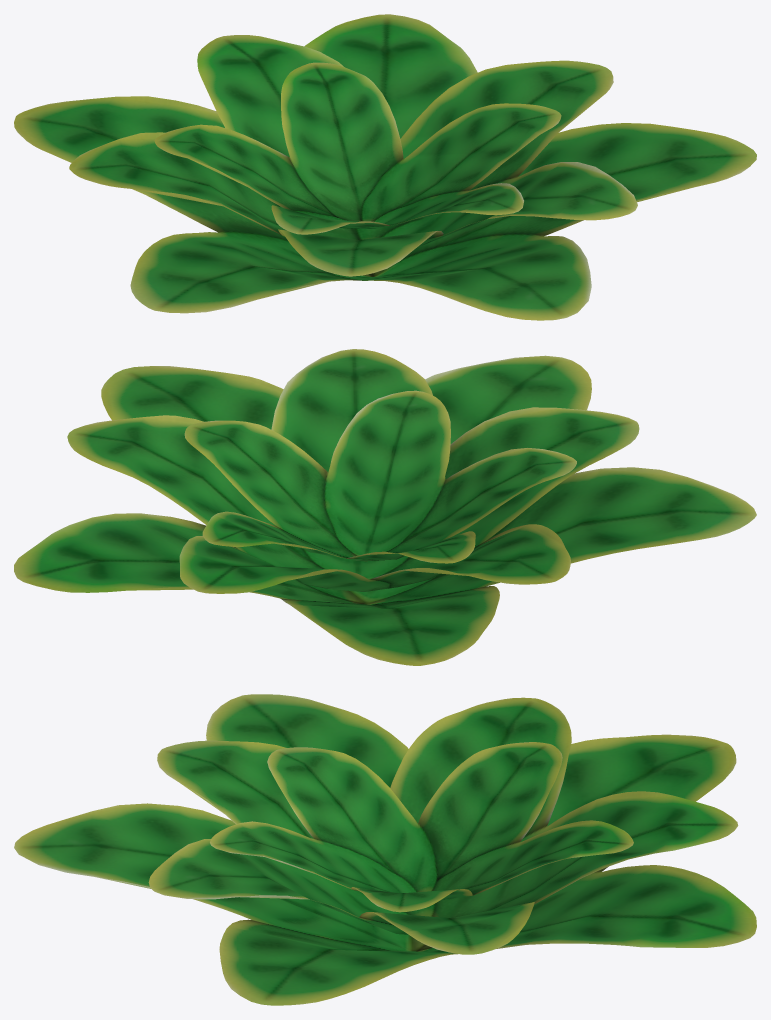
File: Matojo2.fbx
3 views of the same model, one above another, from view 1: azimuth 30°, elevation 25°; view 2: azimuth 150°, elevation 25°; view 3: azimuth 270°, elevation 25° (orthographic). The views are drawn at different scales.
Visible parts, largest first — view 1: Matojo2; view 2: Matojo2; view 3: Matojo2.
Part boxes in pixels (left/top/right/bottom): Matojo2: left=14, top=14, right=756, bottom=320; Matojo2: left=14, top=349, right=756, bottom=665; Matojo2: left=14, top=694, right=756, bottom=1005.
Bounding box in the file's own units: 83.78 × 16.7 × 84.42.
